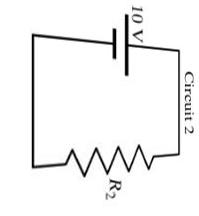resistor: (57, 141, 159, 175)
